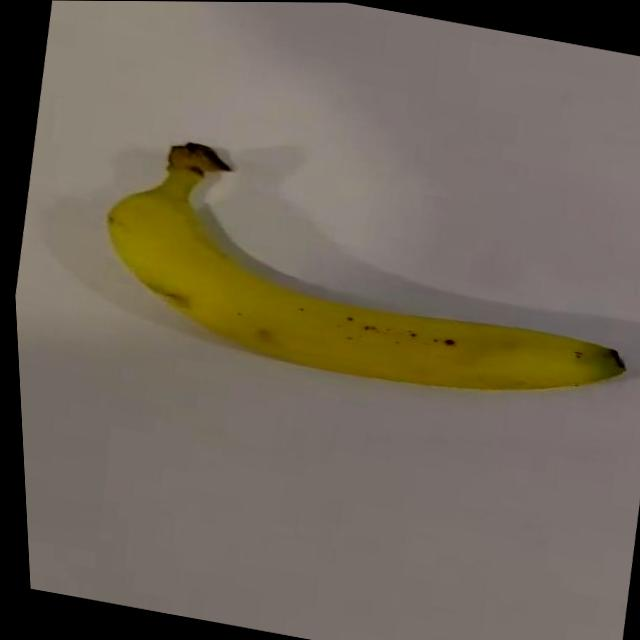Banana: (81, 126, 640, 424)
